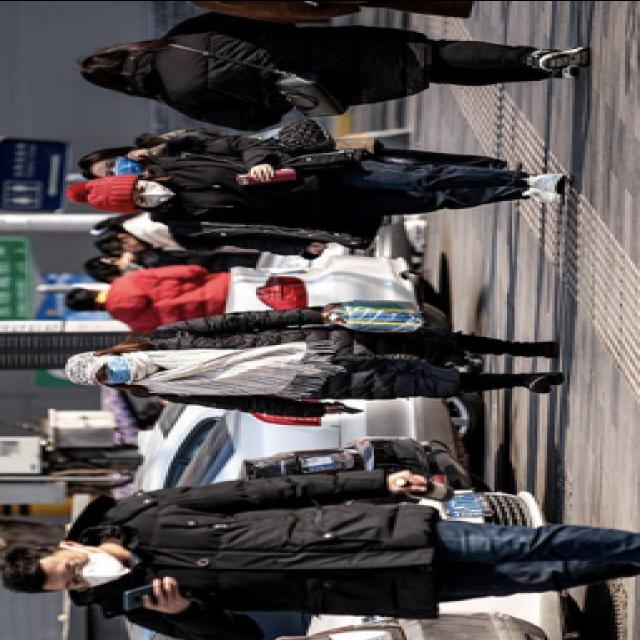with_mask: (58, 548, 134, 590), (131, 180, 173, 207), (98, 156, 143, 178), (98, 355, 130, 384)
